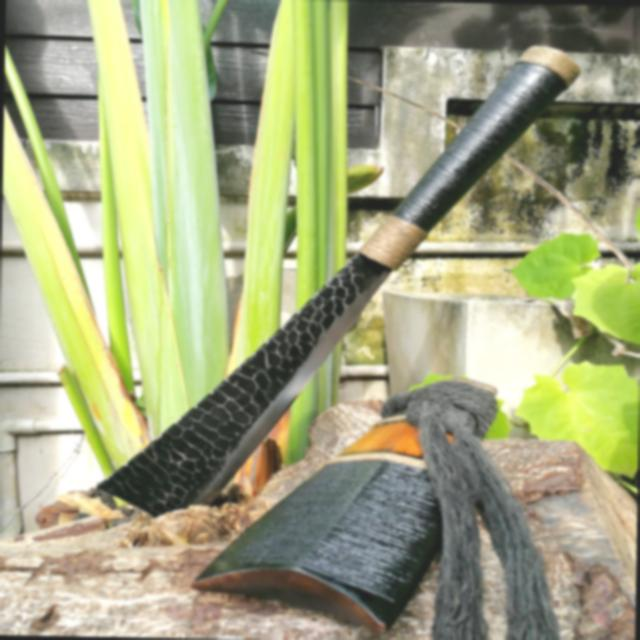eto: (82, 33, 591, 553)
